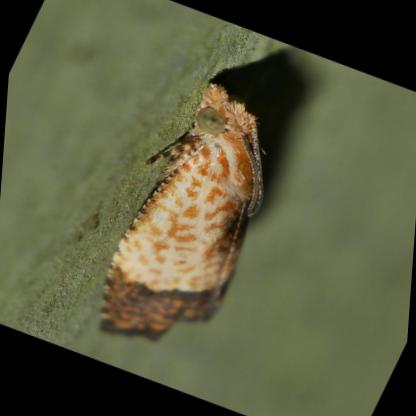Leaf Webber: (98, 81, 266, 341)
